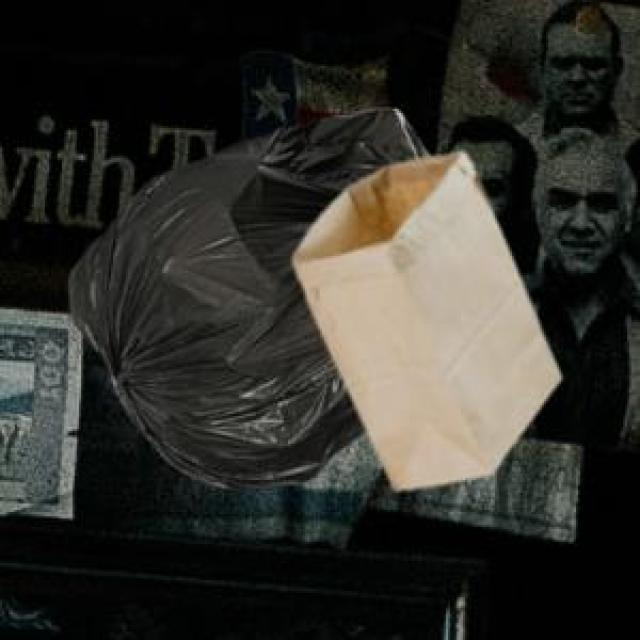miscellaneous trash: (64, 105, 427, 484)
paper: (290, 149, 557, 484)
